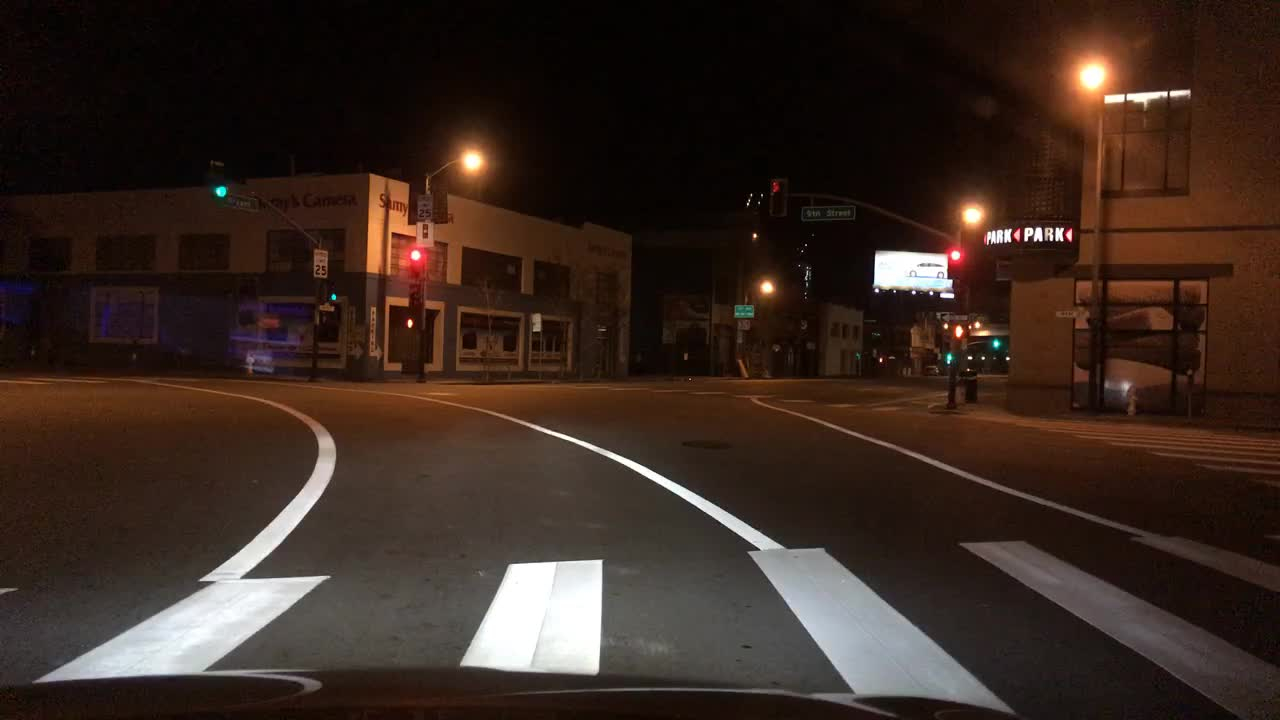car: (924, 364, 939, 376)
traffic light: (206, 155, 226, 199), (768, 177, 786, 214), (408, 245, 422, 277), (948, 246, 962, 266), (325, 280, 337, 300), (941, 349, 955, 366), (951, 320, 963, 339), (403, 315, 418, 329), (989, 334, 1002, 349)
traffic sign: (798, 202, 855, 221), (219, 194, 258, 214), (1054, 304, 1088, 320), (938, 309, 968, 326), (310, 246, 327, 275), (415, 191, 432, 219), (732, 302, 752, 315), (860, 314, 881, 324), (317, 302, 334, 314), (734, 319, 752, 329)
